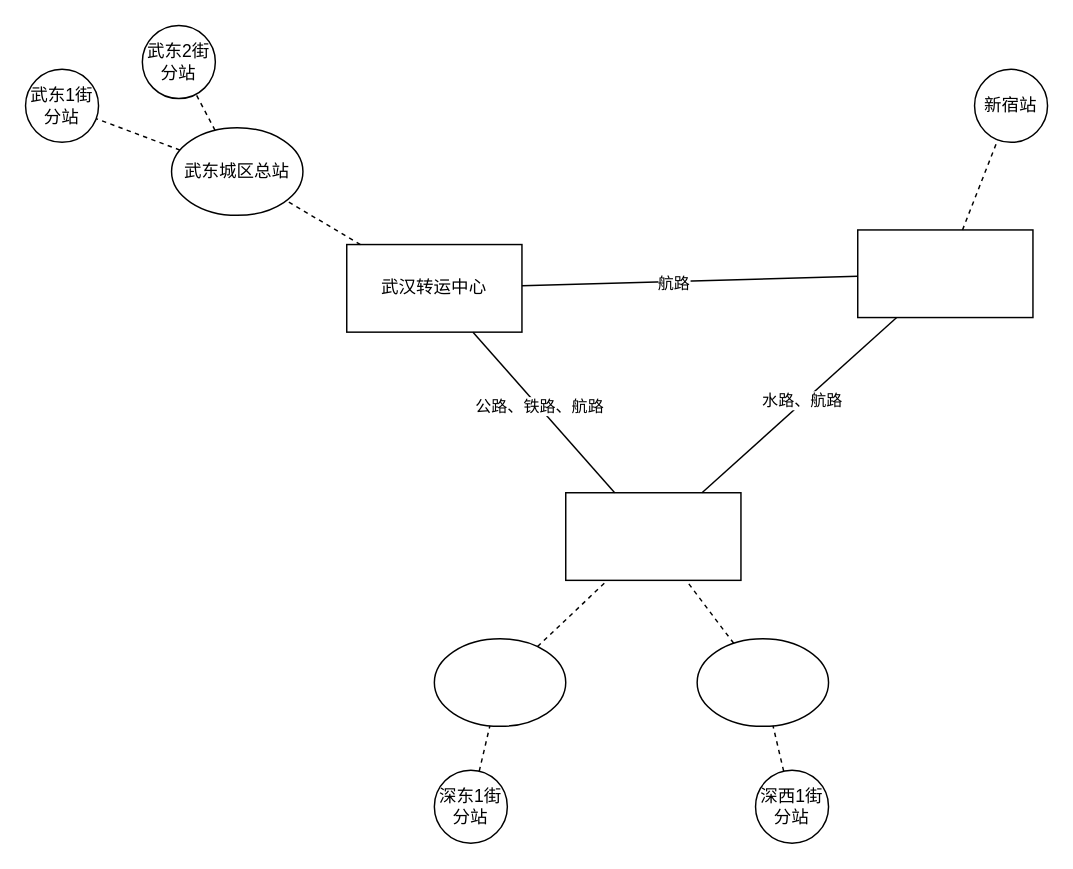
Image size: 1073x869. Some labels were removed from this diagram. The box of each missing label's shape, as (x1, y1, x2, y2) in pixels:
东京转运中心: (856, 228, 1033, 318)
深东城区总站: (433, 637, 566, 726)
深圳转运中心: (564, 491, 741, 580)
深西城区总站: (696, 637, 829, 726)
